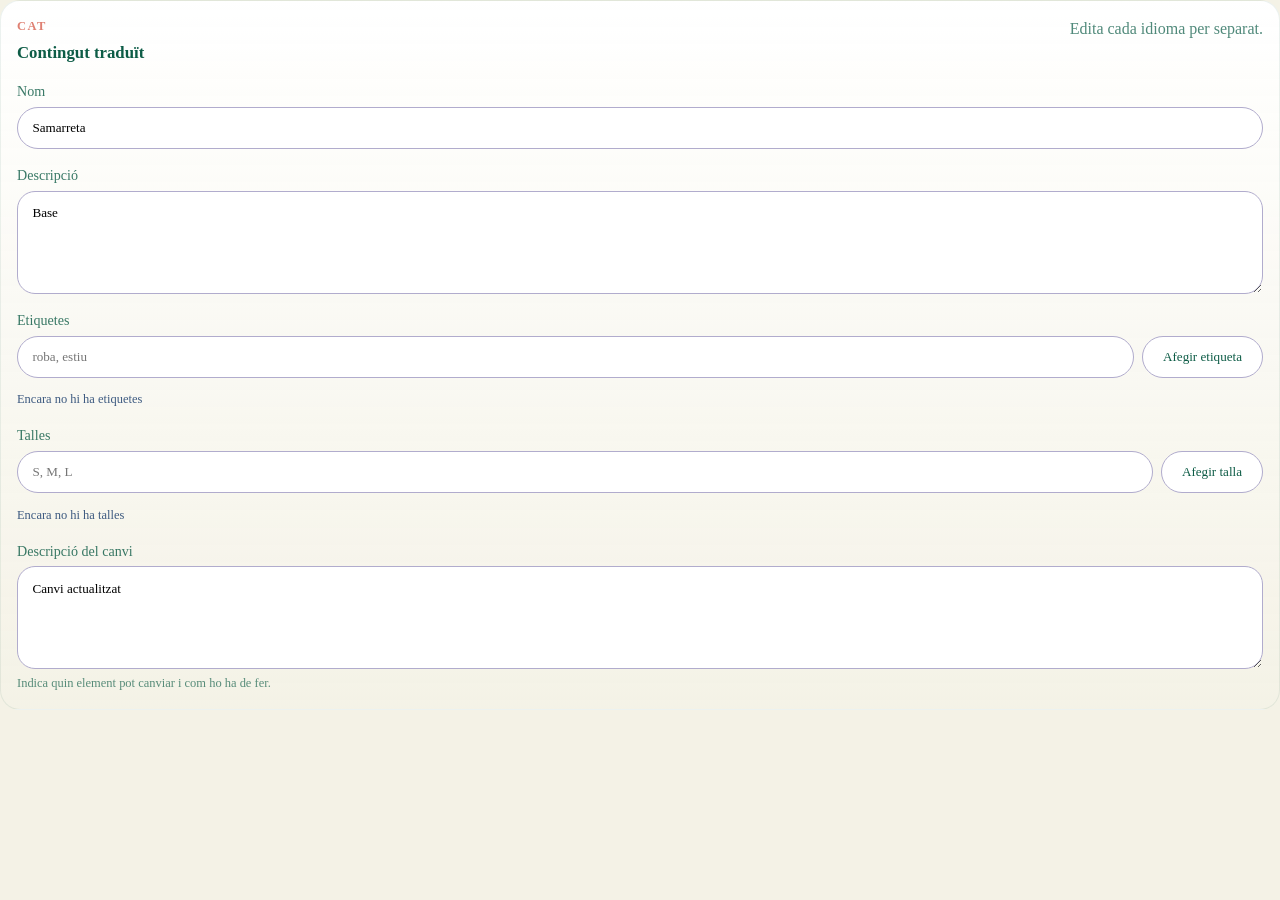
ProductTranslationSection › restores empty translation arrays when the last tag is removed
Expected: the text "Encara no hi ha etiquetes" is shown, [17,392,142,406]
Expected: the text "Encara no hi ha talles" is shown, [17,508,124,522]
Type "roba" into the field labelled "Etiquetes".
click(576, 357); type("roba")  # box [17,336,1134,378]
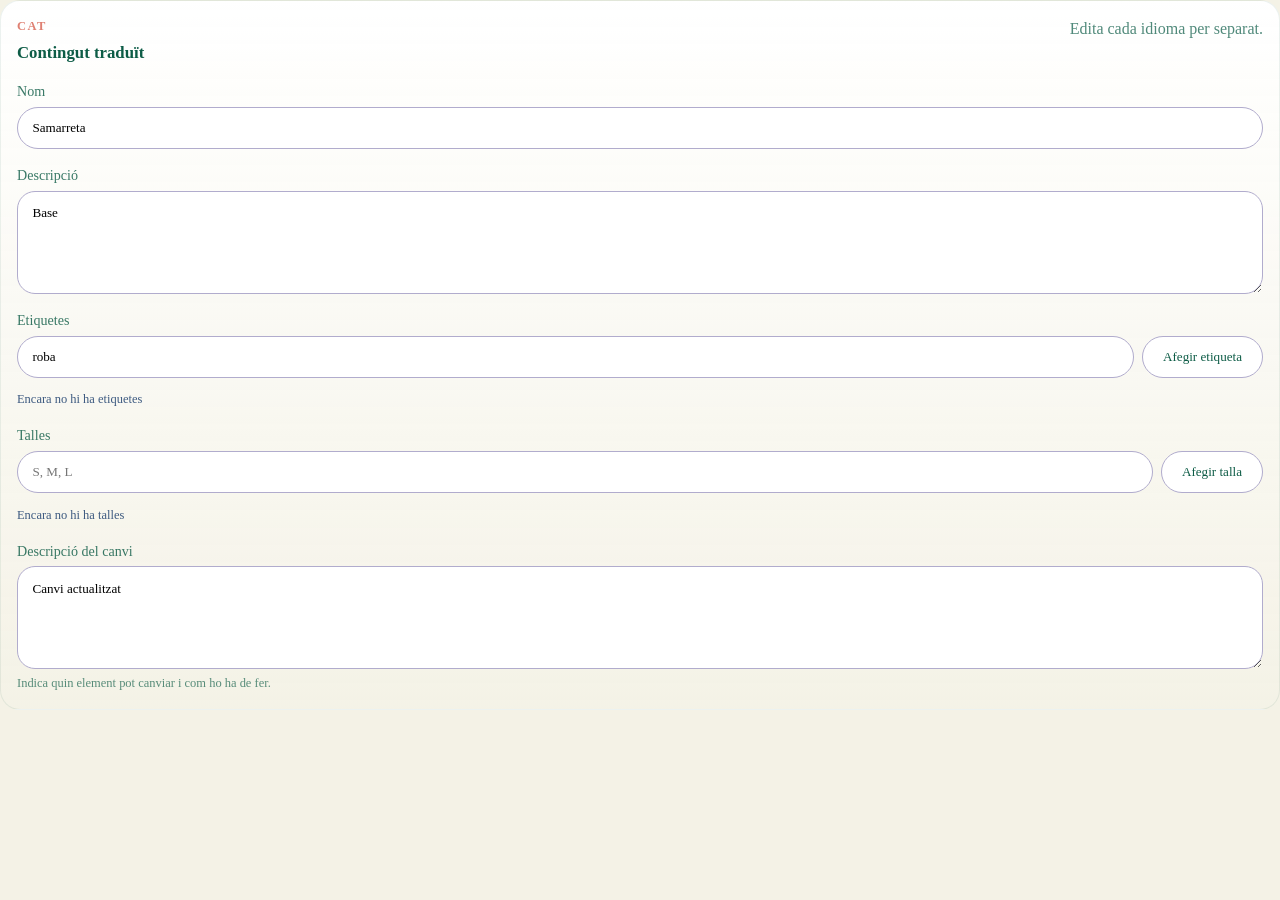
Click the button "Afegir etiqueta".
click(1202, 357)  # box [1142,336,1263,378]
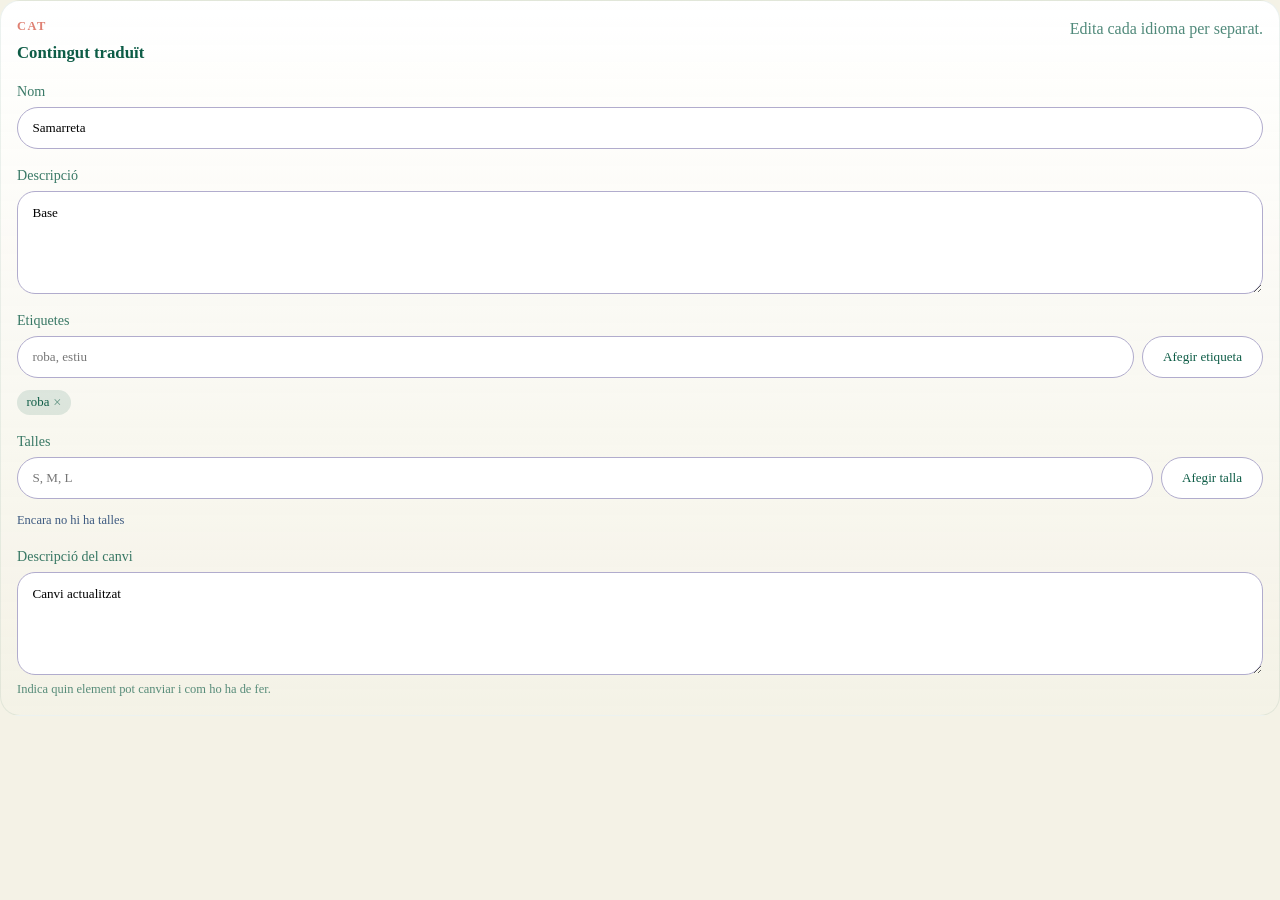
Click the button named "Eliminar roba".
click(57, 403)  # box [53,395,61,410]
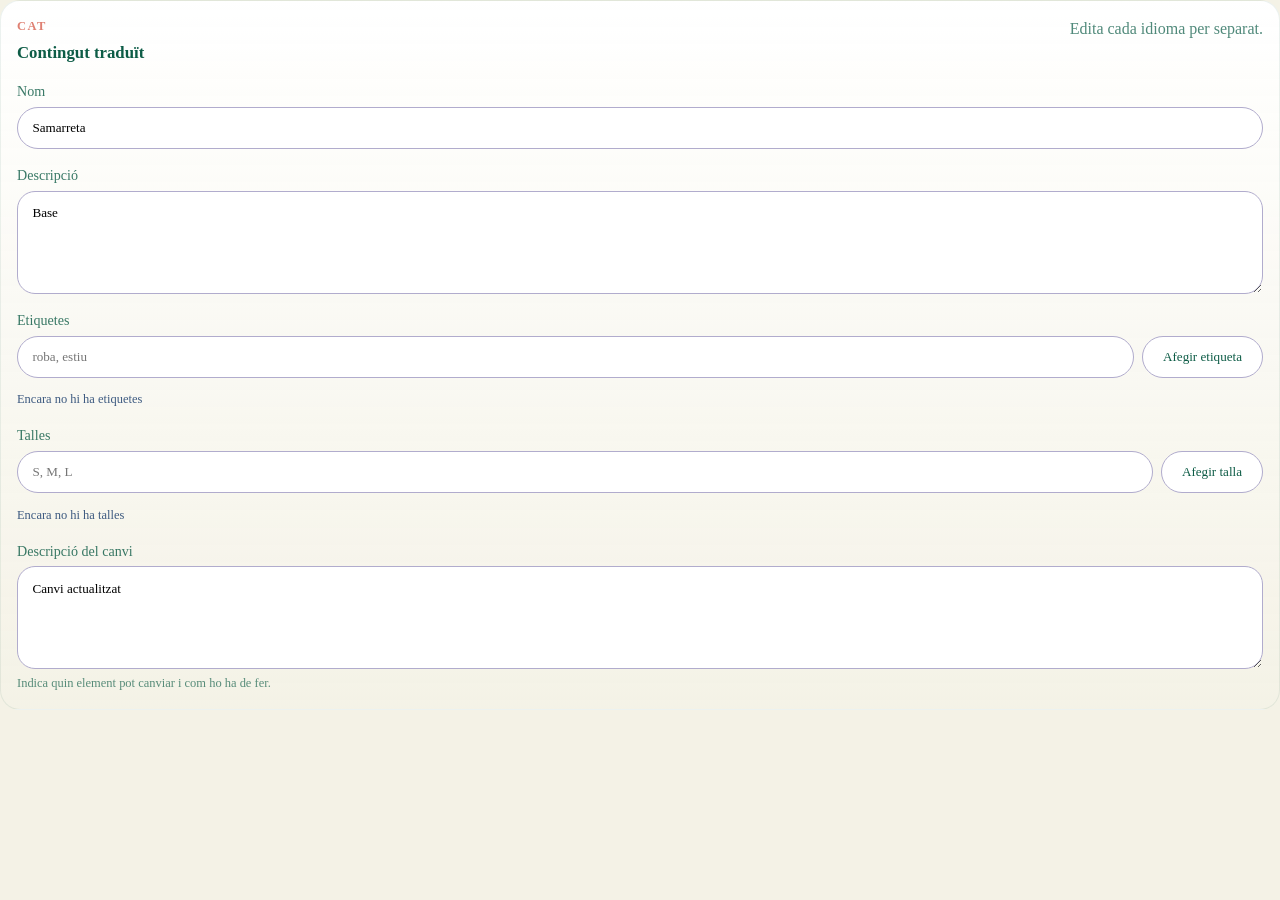
Result: the text "Encara no hi ha etiquetes" is shown at [17,392,142,406]
